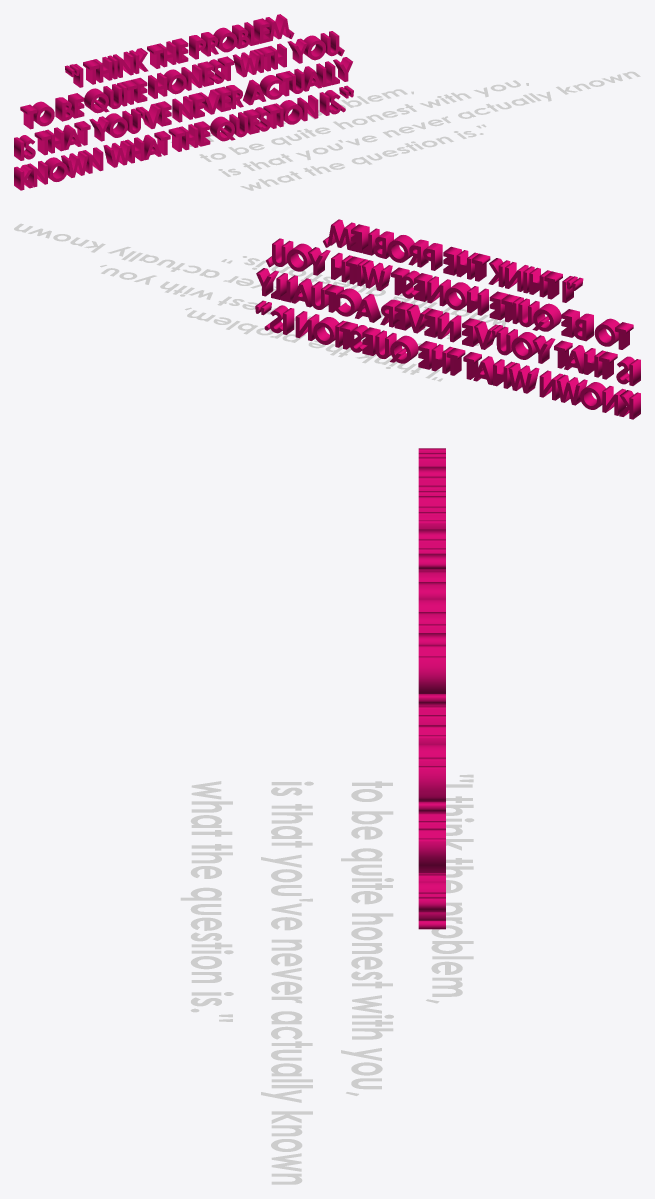
Rendered from Quote1_Test.gltf.
The picture shows the model from 3 angles, top to bottom: view 1: azimuth 30°, elevation 25°; view 2: azimuth 150°, elevation 25°; view 3: azimuth 270°, elevation 25°; orthographic projection. The views are drawn at different scales.
Parts seen in each view (by area): view 1: Text.001, Text; view 2: Text.001, Text; view 3: Text, Text.001.
Boxes of the visible parts, x1,y1,x2,y2 form: Text.001: [14, 14, 353, 190]; Text: [170, 71, 640, 190]; Text.001: [255, 219, 640, 419]; Text: [14, 223, 506, 381]; Text: [180, 774, 474, 1184]; Text.001: [418, 448, 445, 929].
Bounding box in the file's own units: 16.8 × 2.99 × 3.66.
